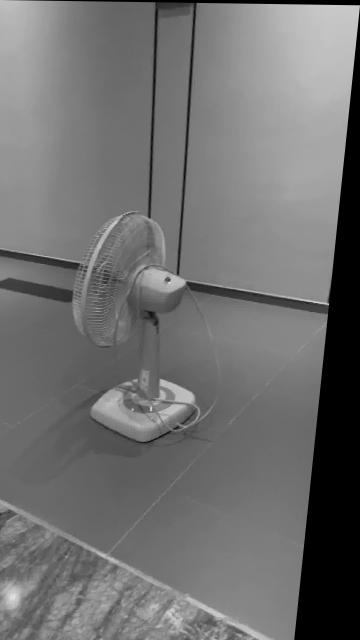Fan: (78, 210, 207, 443)
